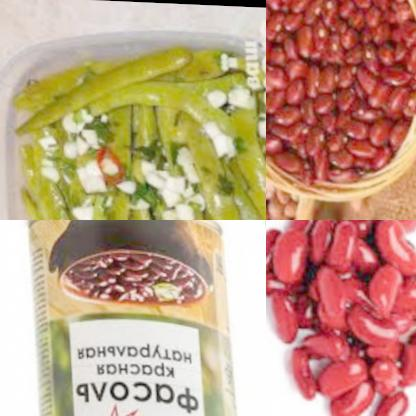fasol: (11, 35, 266, 172), (266, 220, 416, 416), (266, 0, 416, 192), (49, 228, 213, 322), (0, 100, 91, 220), (192, 103, 266, 220), (266, 100, 299, 220), (305, 185, 383, 220)
garlic: (139, 142, 195, 220), (50, 103, 93, 164), (201, 79, 262, 114), (196, 108, 237, 156), (69, 155, 111, 193), (65, 197, 99, 220)
